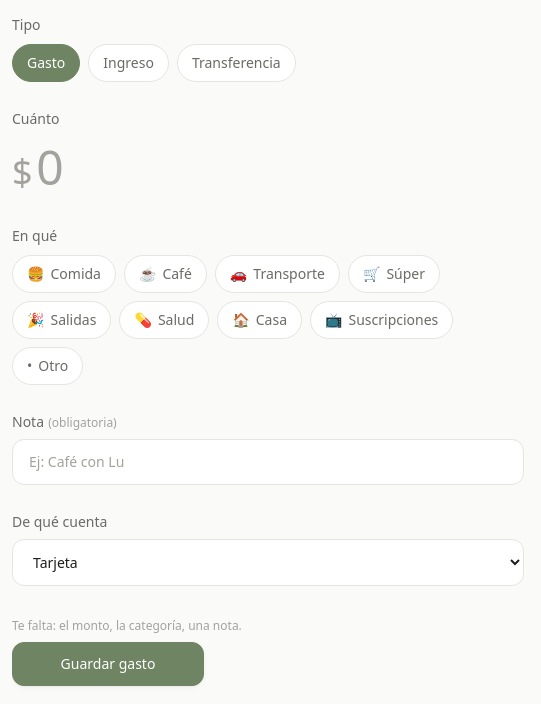
Test: ExpenseForm › says what is missing while saving is disabled, and marks the note as required
The width and height of the screenshot is (541, 704).
Expected: the text "(obligatoria)" is shown, x1=48 y1=414 x2=117 y2=431
Expected: the text "Te falta: el monto, la categoría, una nota." is shown, x1=12 y1=617 x2=242 y2=634
Step 1. Type "10" into the field labelled "Cuánto" → (280, 166), box x1=36 y1=134 x2=524 y2=199
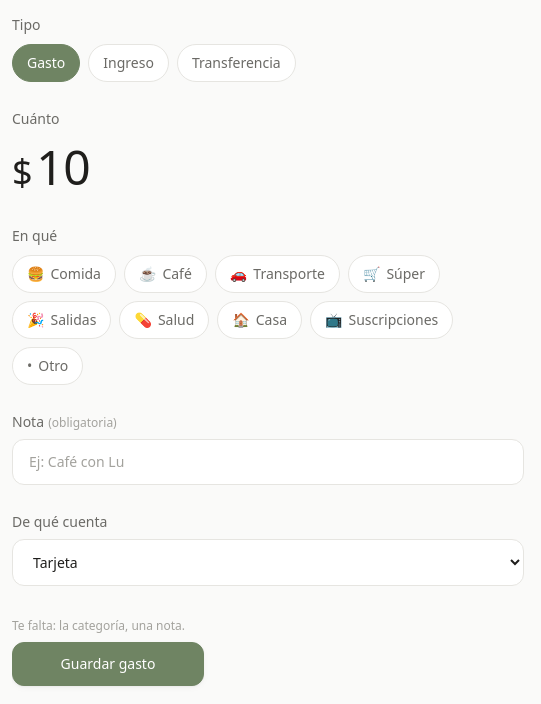
Result: the text "Te falta: la categoría, una nota." is shown at x1=12 y1=617 x2=185 y2=634
